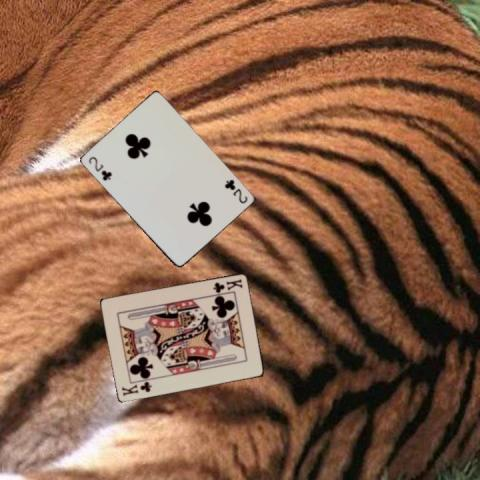2c: (86, 153, 114, 182), (221, 176, 249, 204)
Kc: (118, 379, 152, 398), (210, 276, 243, 295)
